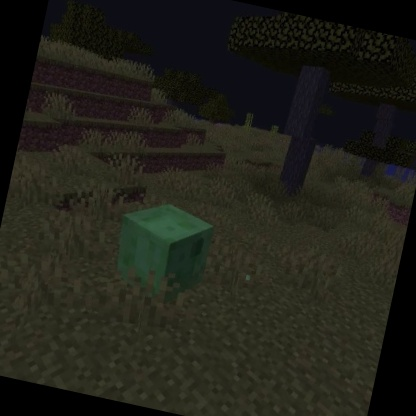slime: (103, 192, 220, 311)
